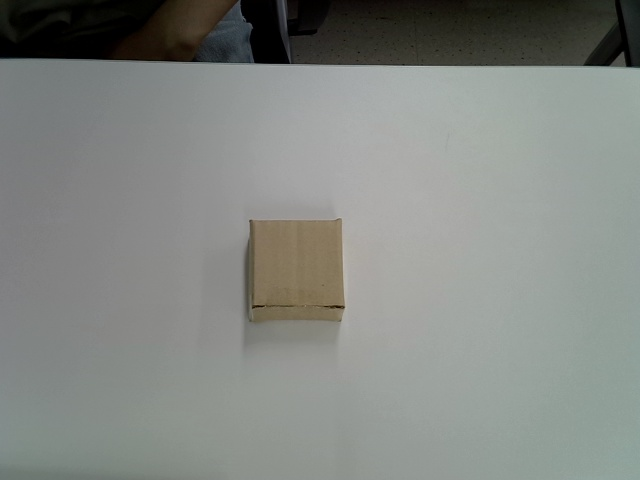normal: (247, 219, 345, 324)
